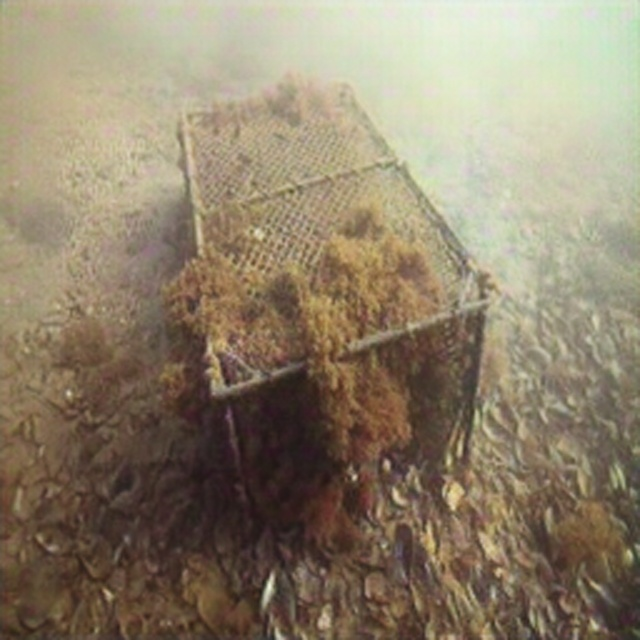mine: (179, 79, 497, 538)
